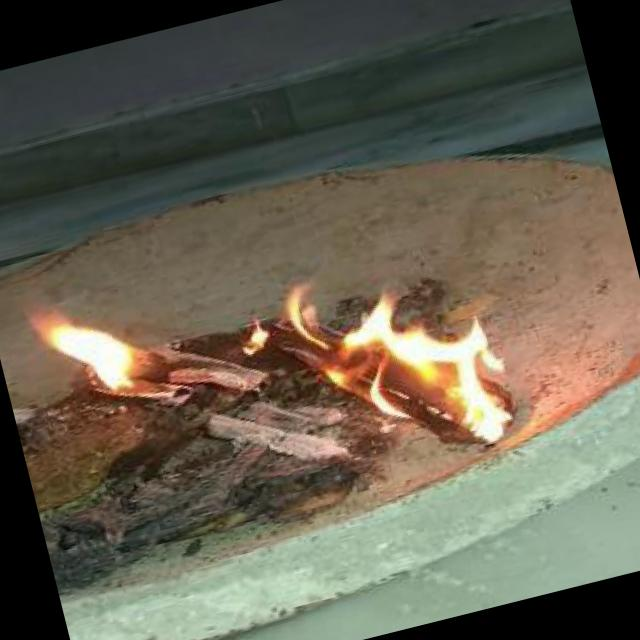fire: (17, 203, 524, 543)
